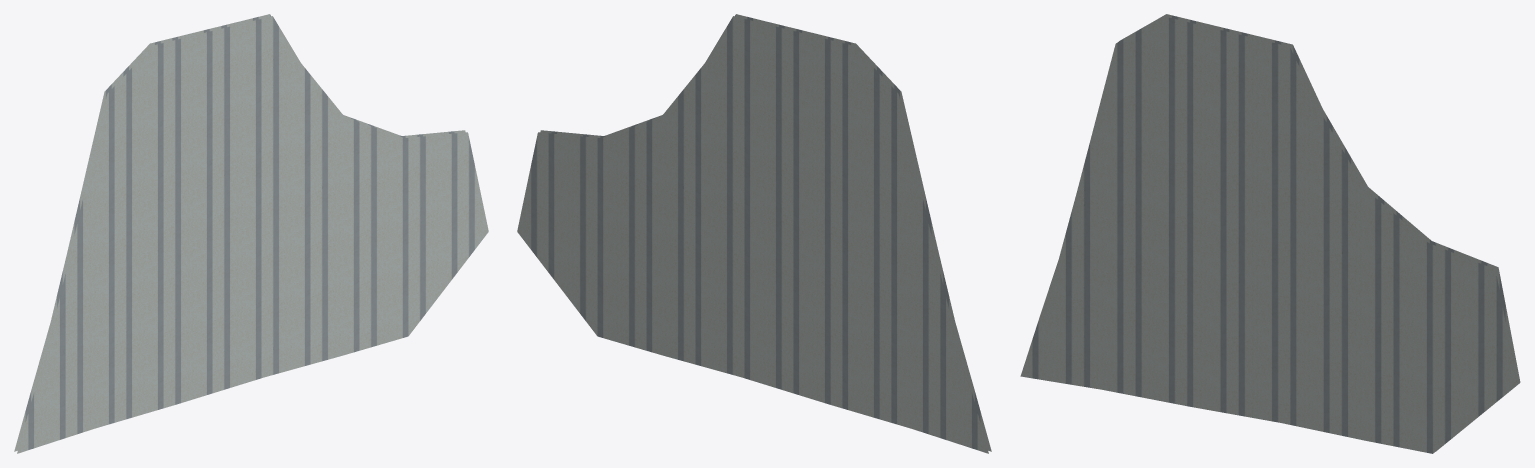
File: floor_60.obj
3 renders of one model, left to right at view 1: azimuth 30°, elevation 25°; view 2: azimuth 150°, elevation 25°; view 3: azimuth 330°, elevation 25°, orthographic. The views are drawn at different scales.
Parts seen in each view (by area): view 1: floor_60; view 2: floor_60; view 3: floor_60.
Part boxes in pixels (x1=…): floor_60: x1=14, y1=14, x2=488, y2=453; floor_60: x1=517, y1=14, x2=991, y2=453; floor_60: x1=1020, y1=14, x2=1520, y2=453.
Size of the model in its own units: 9.64 by 7.33 by 0.1.
Materials: 1 (1 with a texture image).
